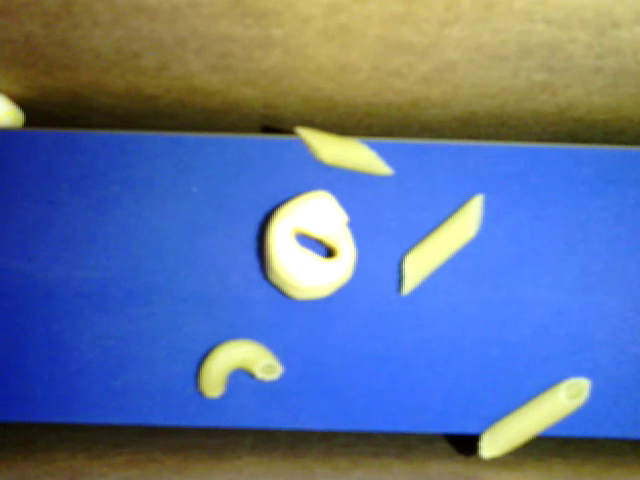elbow: (196, 337, 285, 398)
penne: (478, 376, 592, 459), (400, 192, 484, 295), (294, 126, 394, 175)
tortellini: (263, 188, 359, 300)
